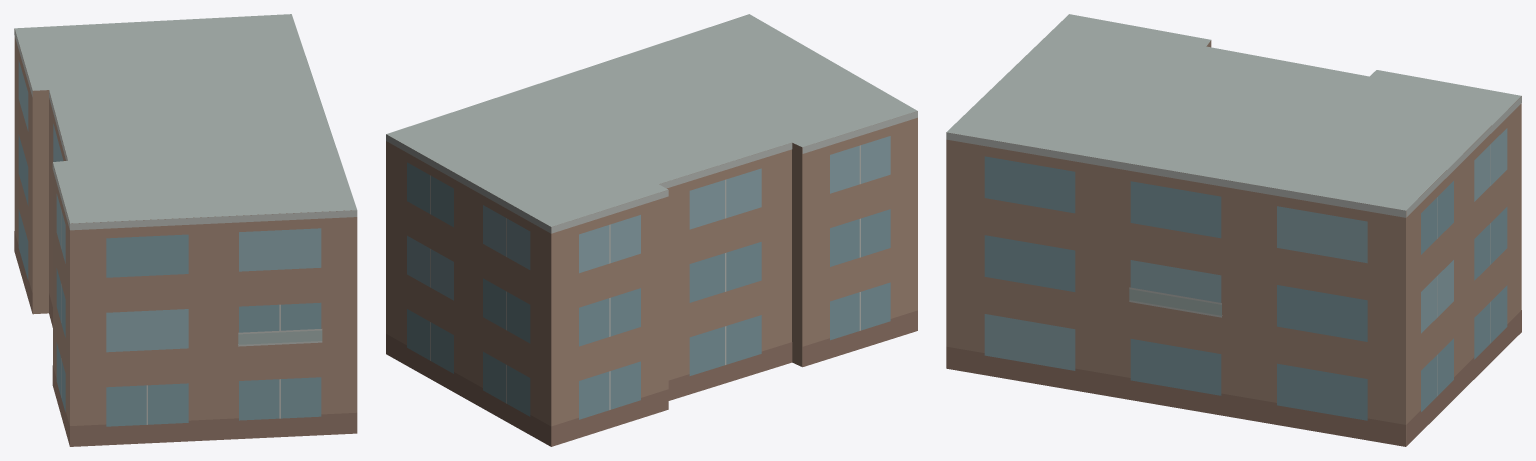
Rendered from survey-upis-32730924.glb.
3 renders of one model, left to right at view 1: azimuth 30°, elevation 25°; view 2: azimuth 150°, elevation 25°; view 3: azimuth 270°, elevation 25°, orthographic. The views are drawn at different scales.
Parts seen in each view (by area): view 1: survey-upis-32730924.tmp; view 2: survey-upis-32730924.tmp; view 3: survey-upis-32730924.tmp.
Boxes of the visible parts, x1=… form: survey-upis-32730924.tmp: x1=14, y1=14, x2=357, y2=446; survey-upis-32730924.tmp: x1=386, y1=14, x2=917, y2=446; survey-upis-32730924.tmp: x1=946, y1=14, x2=1521, y2=446.
Bounding box in the file's own units: 14.2 × 7.95 × 17.56.
